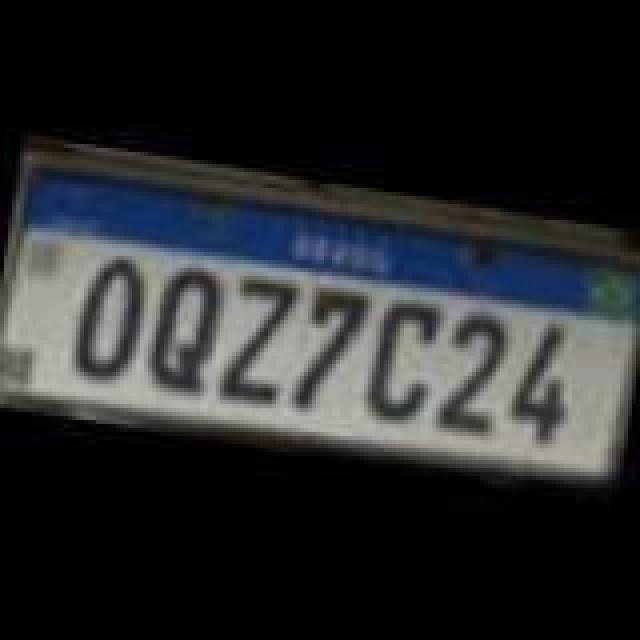2: (430, 306, 514, 434)
4: (500, 320, 584, 448)
7: (288, 288, 368, 416)
C: (364, 296, 452, 428)
O: (66, 252, 158, 380)
Q: (136, 260, 232, 392)
Z: (212, 276, 300, 408)
